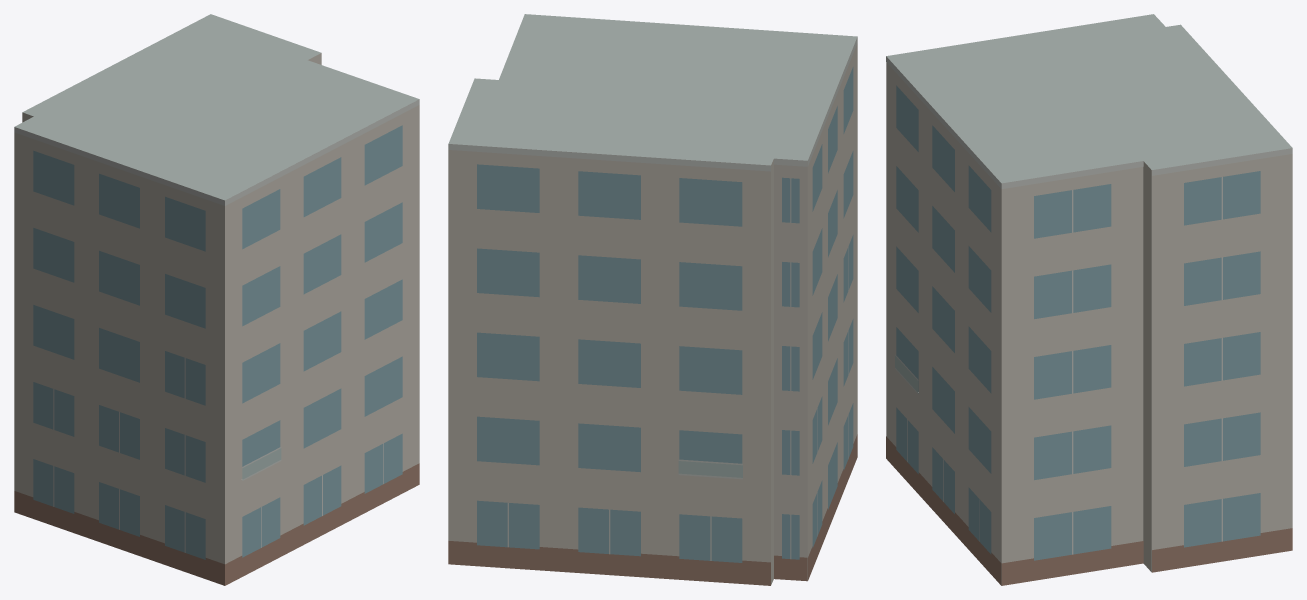
File: survey-upis-32849919.glb
3 renders of one model, left to right at view 1: azimuth 30°, elevation 25°; view 2: azimuth 150°, elevation 25°; view 3: azimuth 270°, elevation 25°, orthographic. The views are drawn at different scales.
Parts seen in each view (by area): view 1: survey-upis-32849919.tmp; view 2: survey-upis-32849919.tmp; view 3: survey-upis-32849919.tmp.
Part boxes in pixels (x1=…): survey-upis-32849919.tmp: x1=14, y1=14, x2=419, y2=585; survey-upis-32849919.tmp: x1=448, y1=14, x2=857, y2=585; survey-upis-32849919.tmp: x1=886, y1=14, x2=1292, y2=585.
Bounding box in the file's own units: 15.31 × 16.95 × 15.53.
